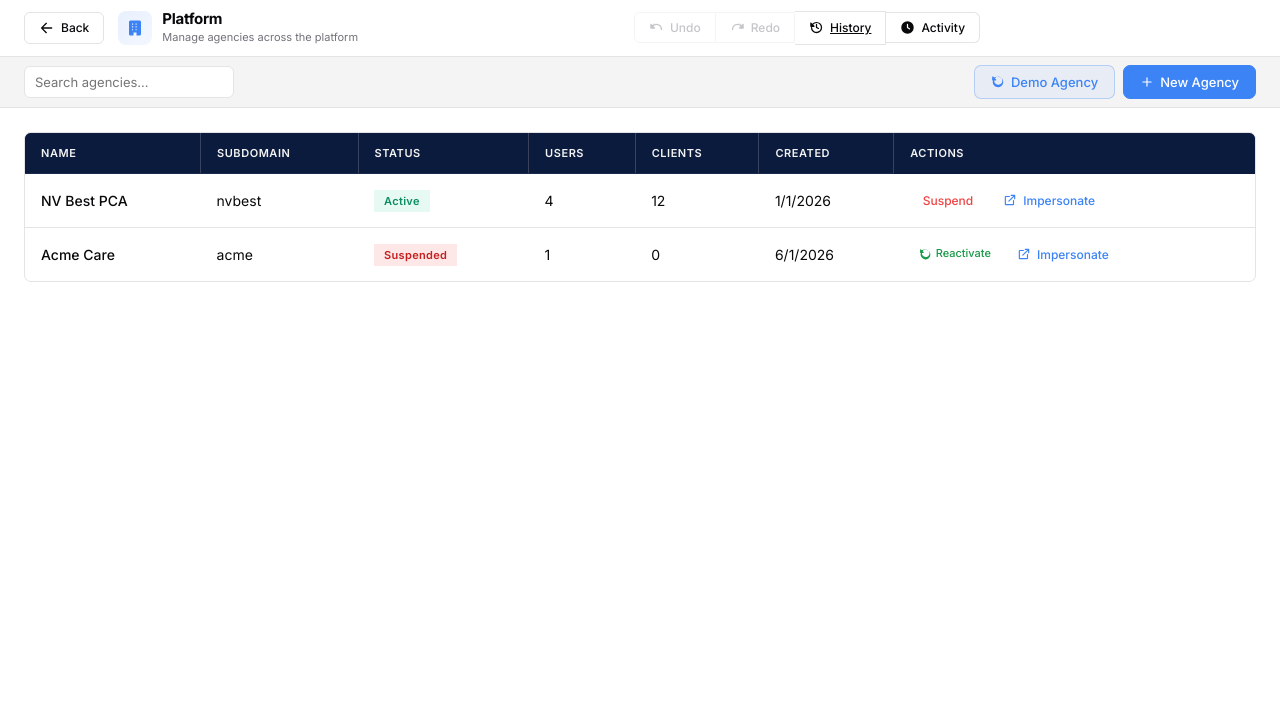
Test: confirming the demo reset provisions and shows the sign-in details
Expected: the text "NV Best PCA" is shown, [25,174,200,227]
Step 1. Click the button "Demo Agency" → (1045,82), box [974,64,1115,99]
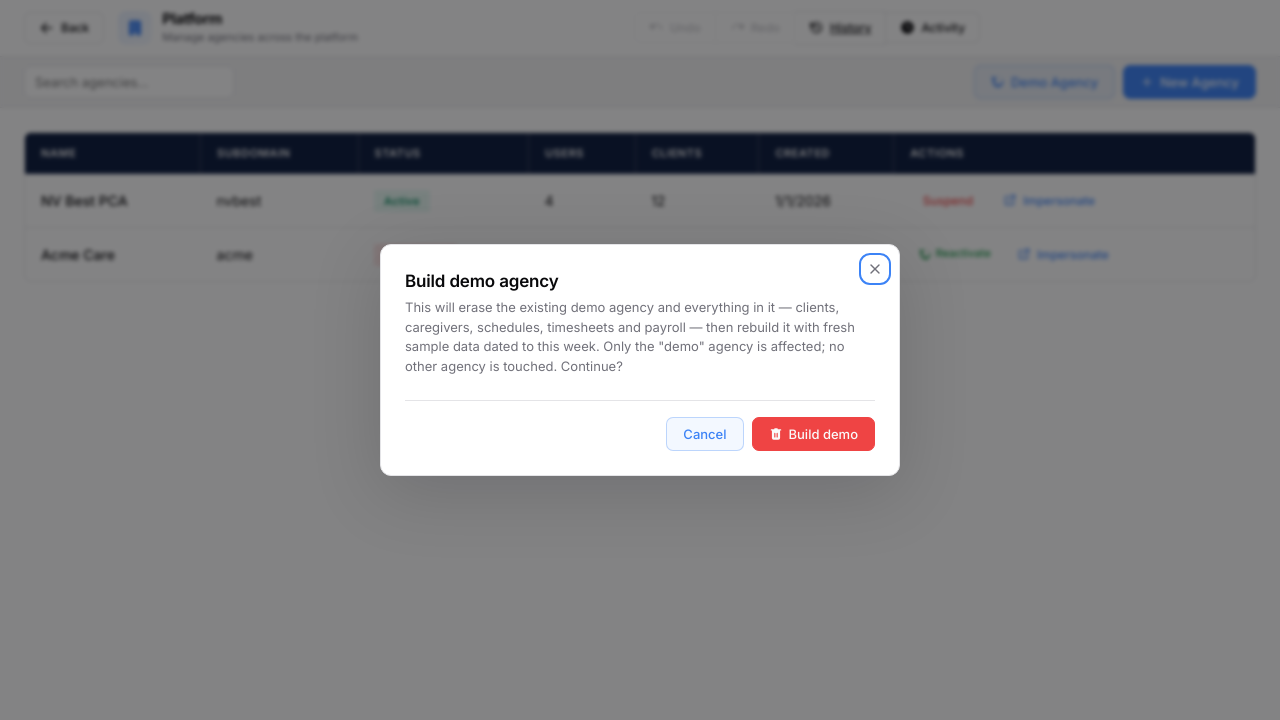
Step 2. Click the button "Build demo" → (813,434), box [752,417,875,451]
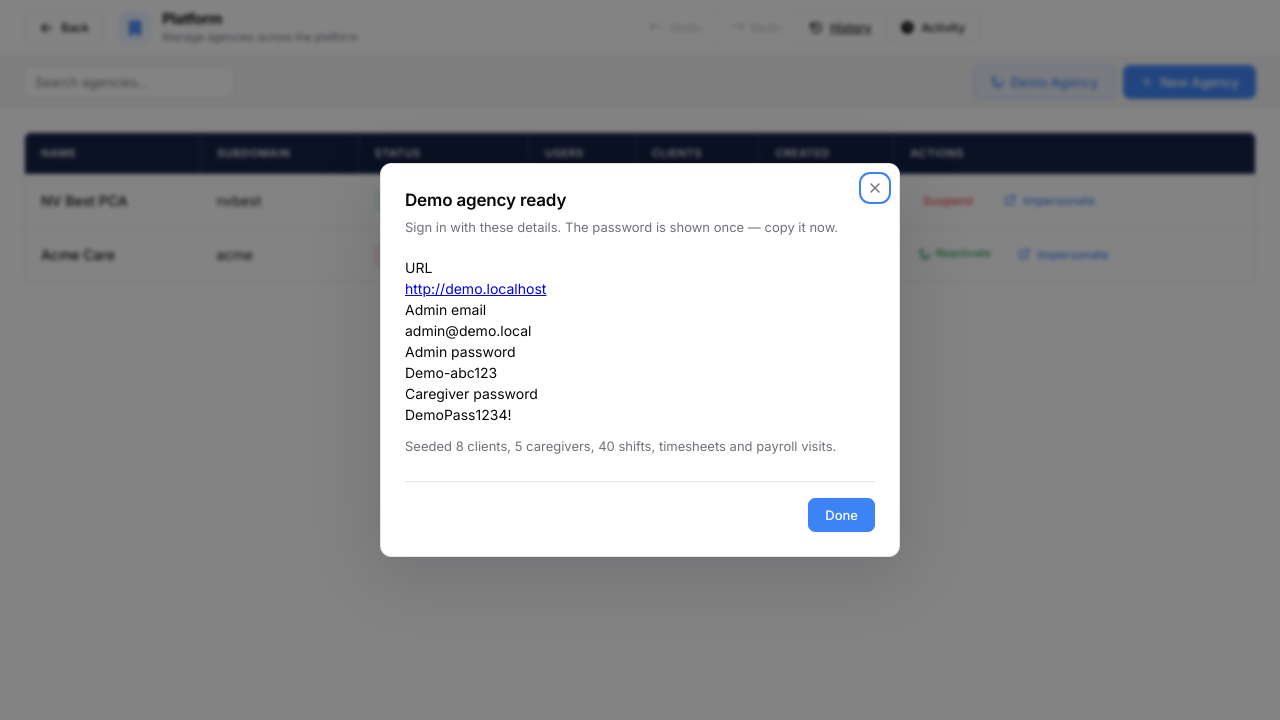
Now the text "admin@demo.local" is shown, box [405,322,532,339]
Now the text "Demo-abc123" is shown, box [405,364,497,381]
